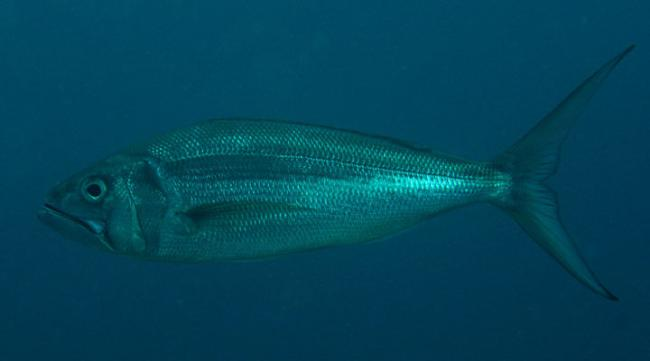fish: (38, 41, 634, 306)
